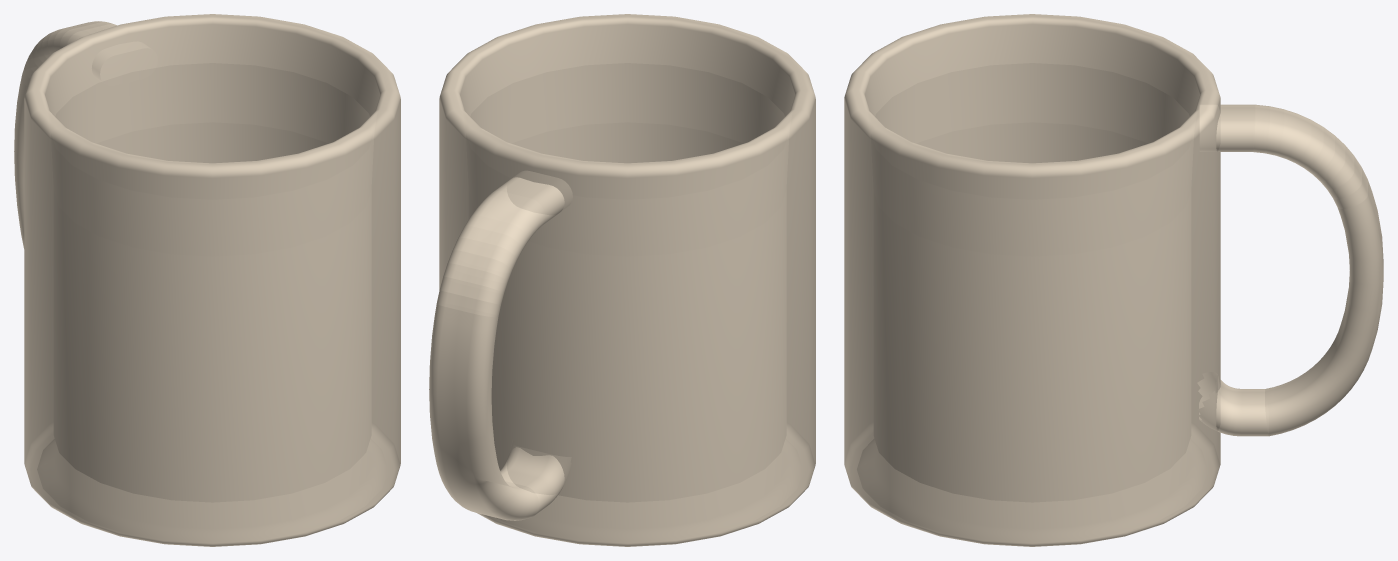
3 views of the same model, side by side, from view 1: azimuth 30°, elevation 25°; view 2: azimuth 150°, elevation 25°; view 3: azimuth 270°, elevation 25° (orthographic).
Parts seen in each view (by area): view 1: mesh1_mesh1-geometry, mesh2_mesh2-geometry; view 2: mesh1_mesh1-geometry, mesh2_mesh2-geometry; view 3: mesh1_mesh1-geometry, mesh2_mesh2-geometry.
Boxes of the visible parts, x1,y1,x2,y2 form: mesh1_mesh1-geometry: (24,14,400,546); mesh2_mesh2-geometry: (14,21,157,248); mesh1_mesh1-geometry: (439,14,815,546); mesh2_mesh2-geometry: (429,171,572,520); mesh1_mesh1-geometry: (844,14,1220,546); mesh2_mesh2-geometry: (1198,104,1383,436).
Size of the model in its own units: 0.4829 by 0.5365 by 0.6921.
